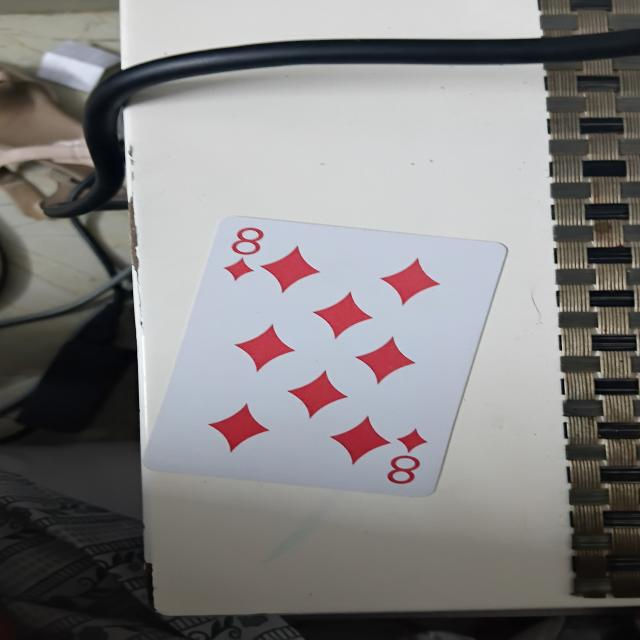8D: (148, 224, 507, 496)
